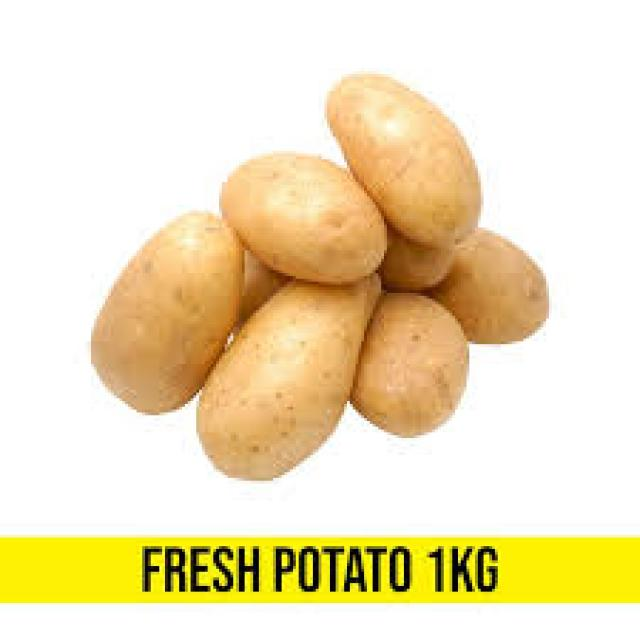Potato: (182, 253, 370, 488), (81, 206, 246, 439), (309, 77, 475, 264), (210, 143, 402, 304), (438, 219, 555, 357), (359, 296, 462, 449)
